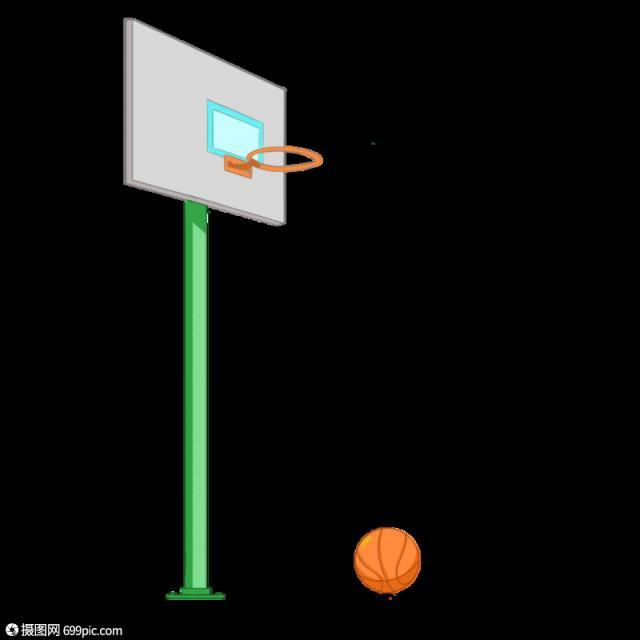rim: (348, 521, 424, 593)
